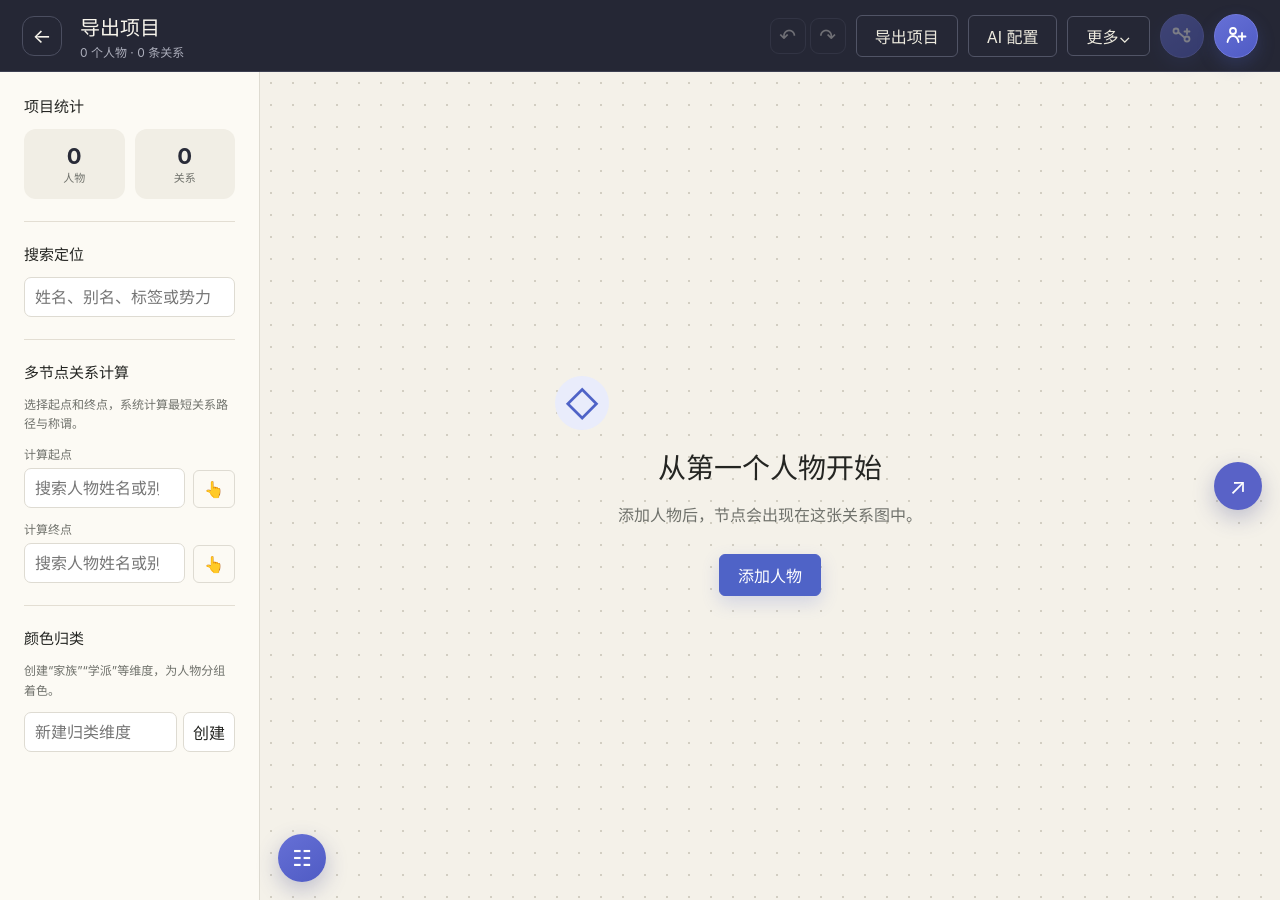
Test: GraphWorkspace › exports JSON from a format chooser
The image size is (1280, 900).
Click the button "导出项目".
click(907, 36)  # box left=856, top=14, right=958, bottom=56
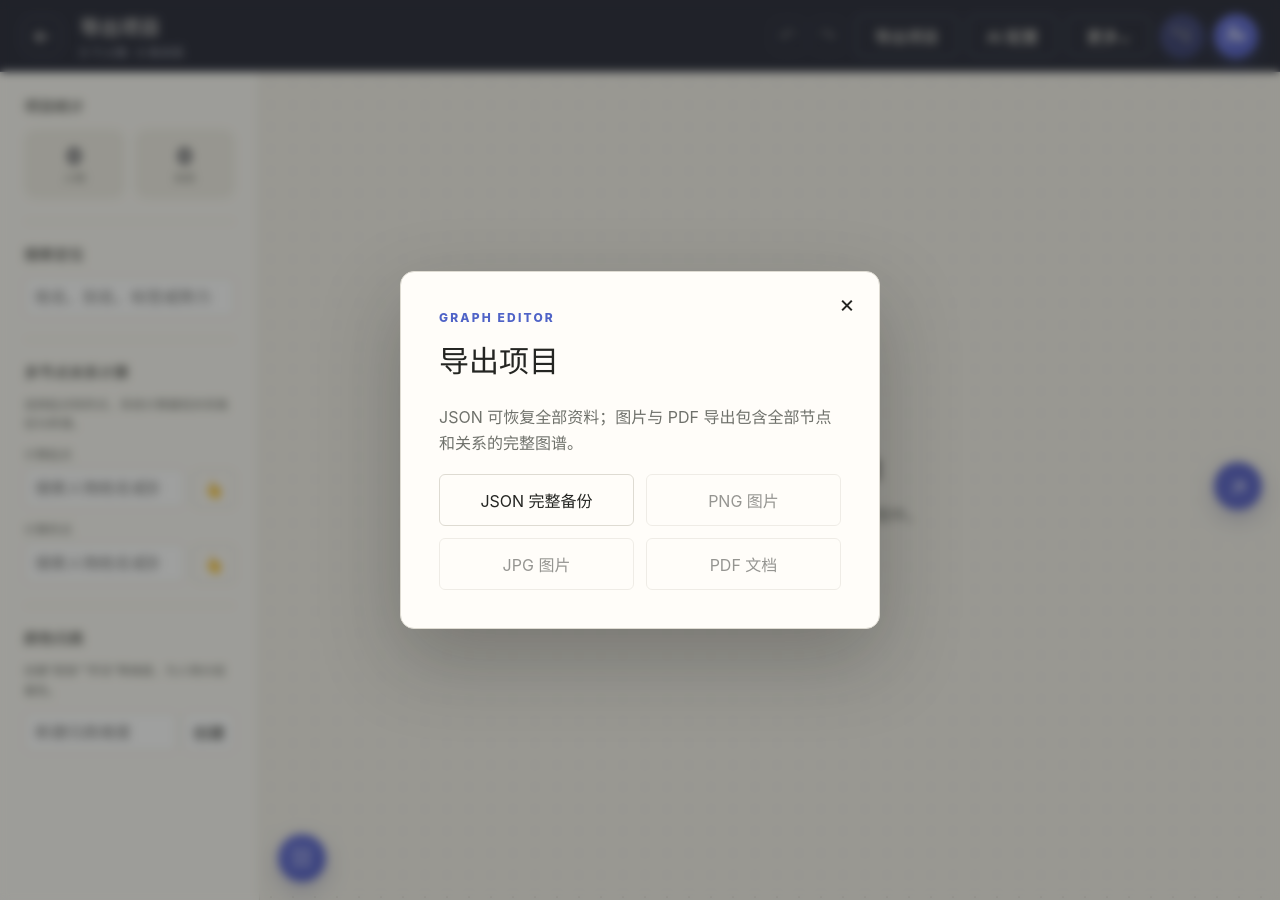
Click the button "JSON 完整备份".
click(536, 500)  # box left=439, top=474, right=634, bottom=526
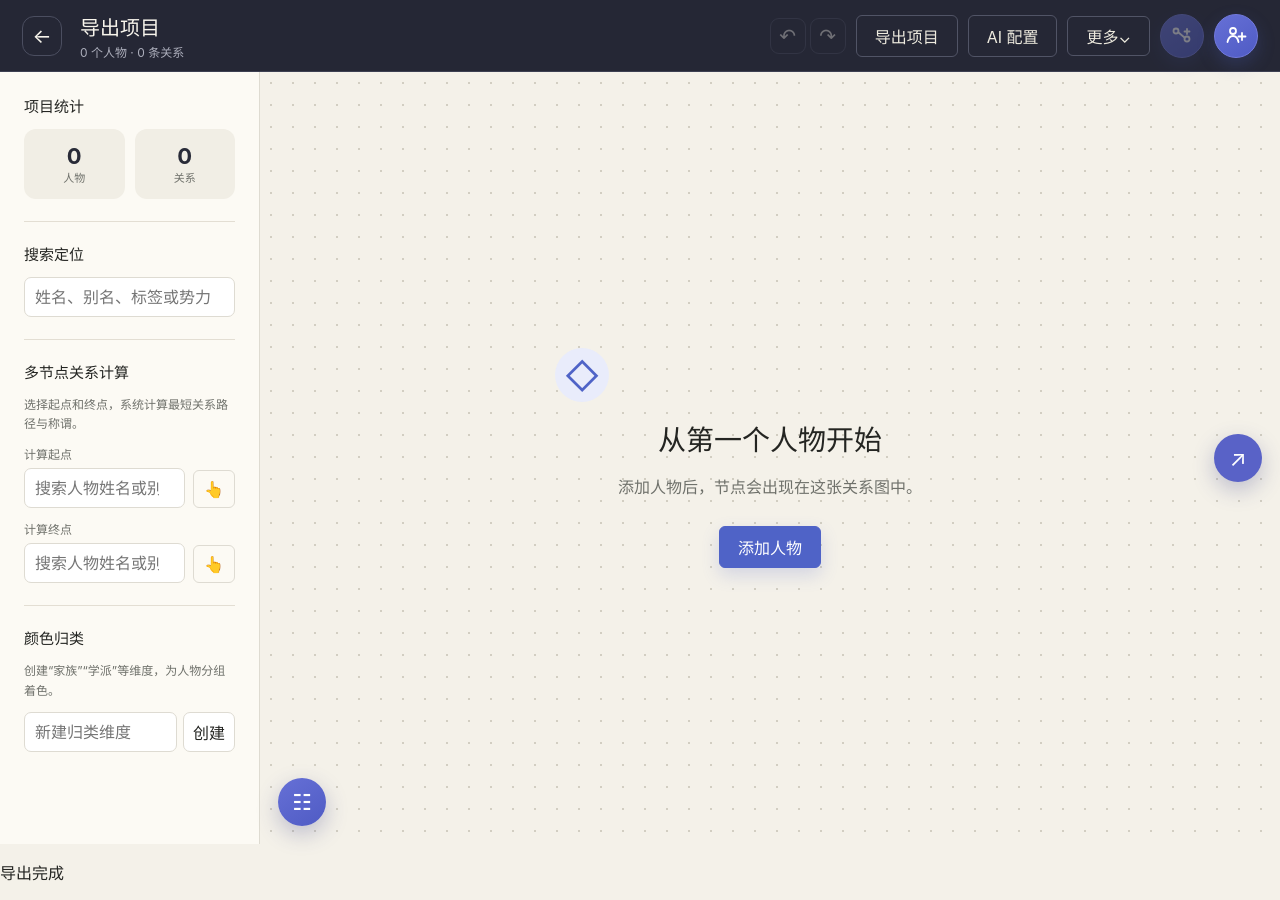
Result: the message reads "导出完成" at left=0, top=863, right=64, bottom=883
